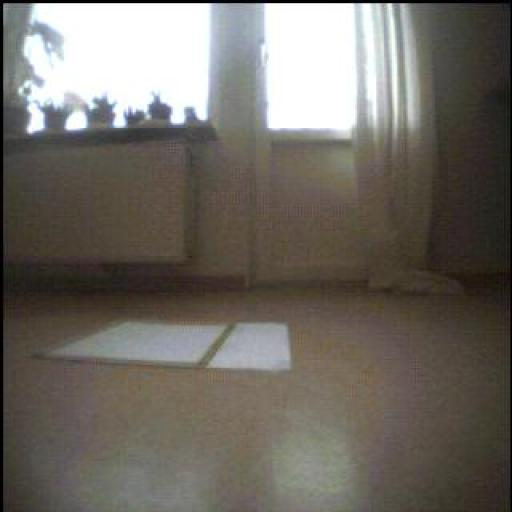Pad: (43, 323, 292, 372)
